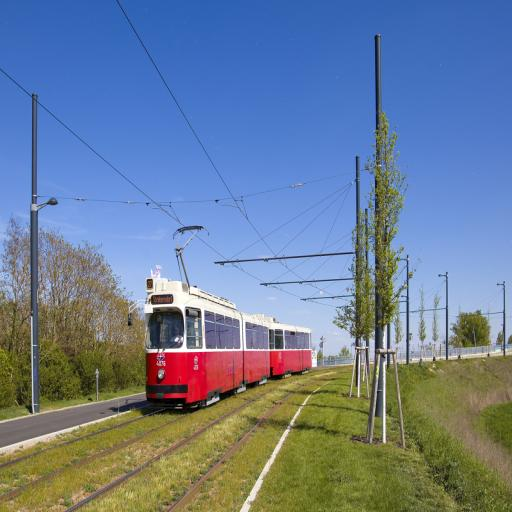E2-Tram: (145, 277, 314, 403)
